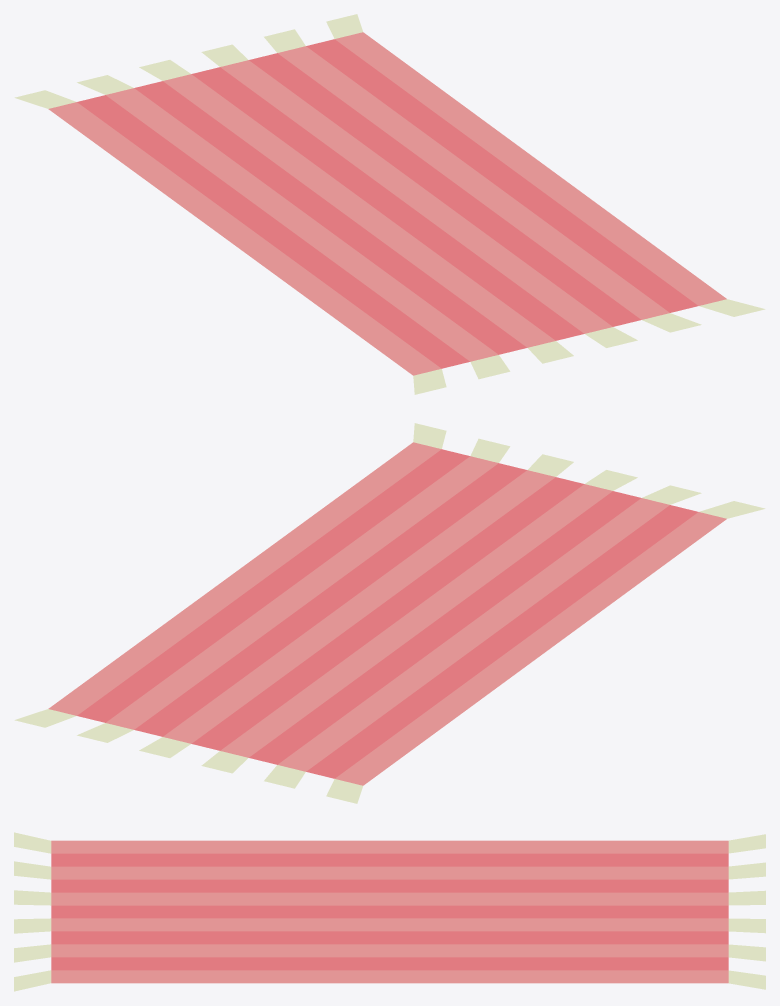
File: rug_striped.fbx
The picture shows the model from 3 angles, top to bottom: view 1: azimuth 30°, elevation 25°; view 2: azimuth 150°, elevation 25°; view 3: azimuth 270°, elevation 25°; orthographic projection. The views are drawn at different scales.
Visible parts, largest first — view 1: Plane.001; view 2: Plane.001; view 3: Plane.001.
Boxes of the visible parts, x1,y1,x2,y2 form: Plane.001: [14, 14, 765, 394]; Plane.001: [14, 423, 765, 803]; Plane.001: [14, 832, 765, 991].
Size of the model in its own units: 342 by 0.000111 by 683.
